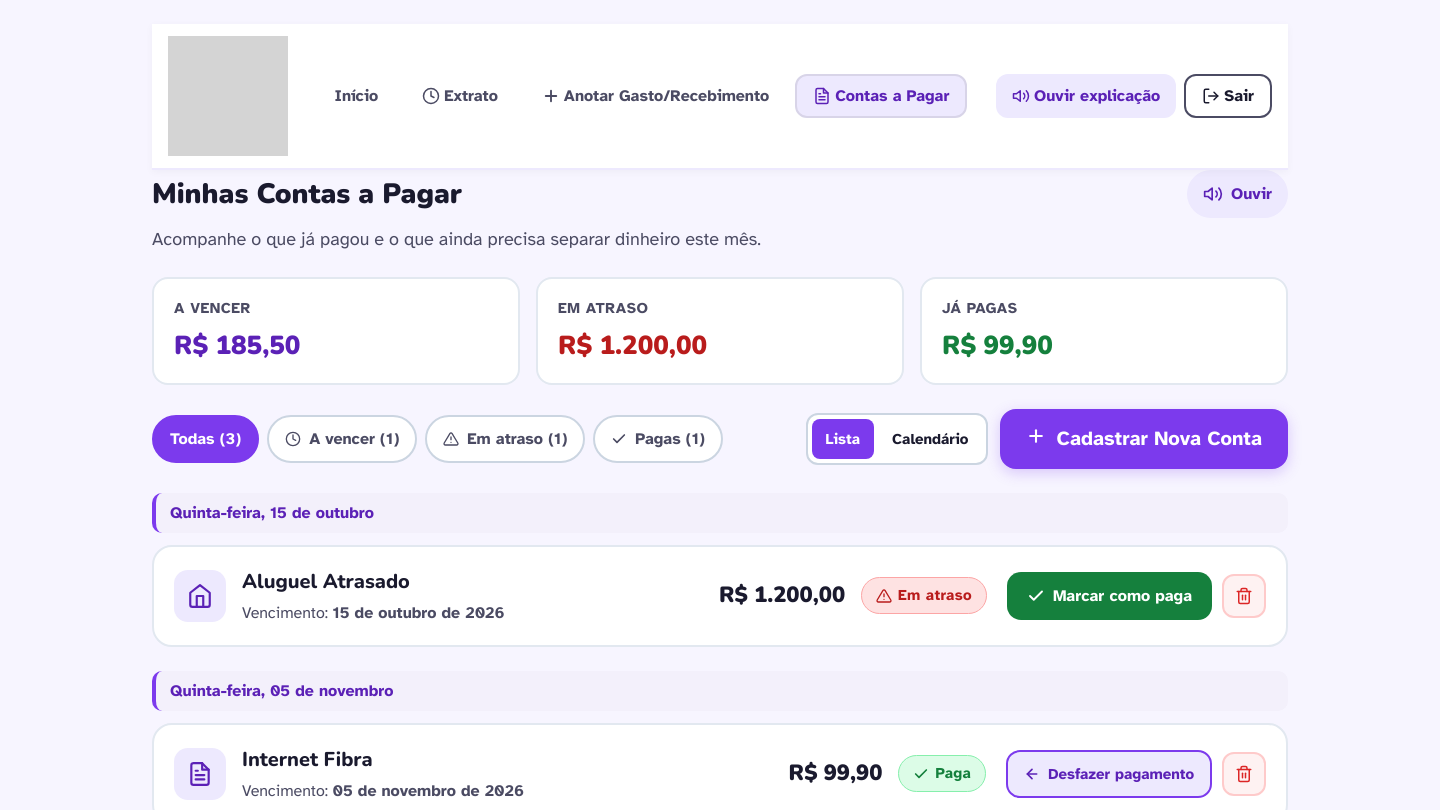
Test: Página de Contas a Pagar (RF25, RF30, RF32) › filtra as contas por situação ao clicar nos botões de filtro
// Clica no filtro "Em atraso"
What coordinates should you click on to do the following:
click the tab "Em atraso (1)"
I would click on:
 (505, 438)
Its box is [425,414,585,462].
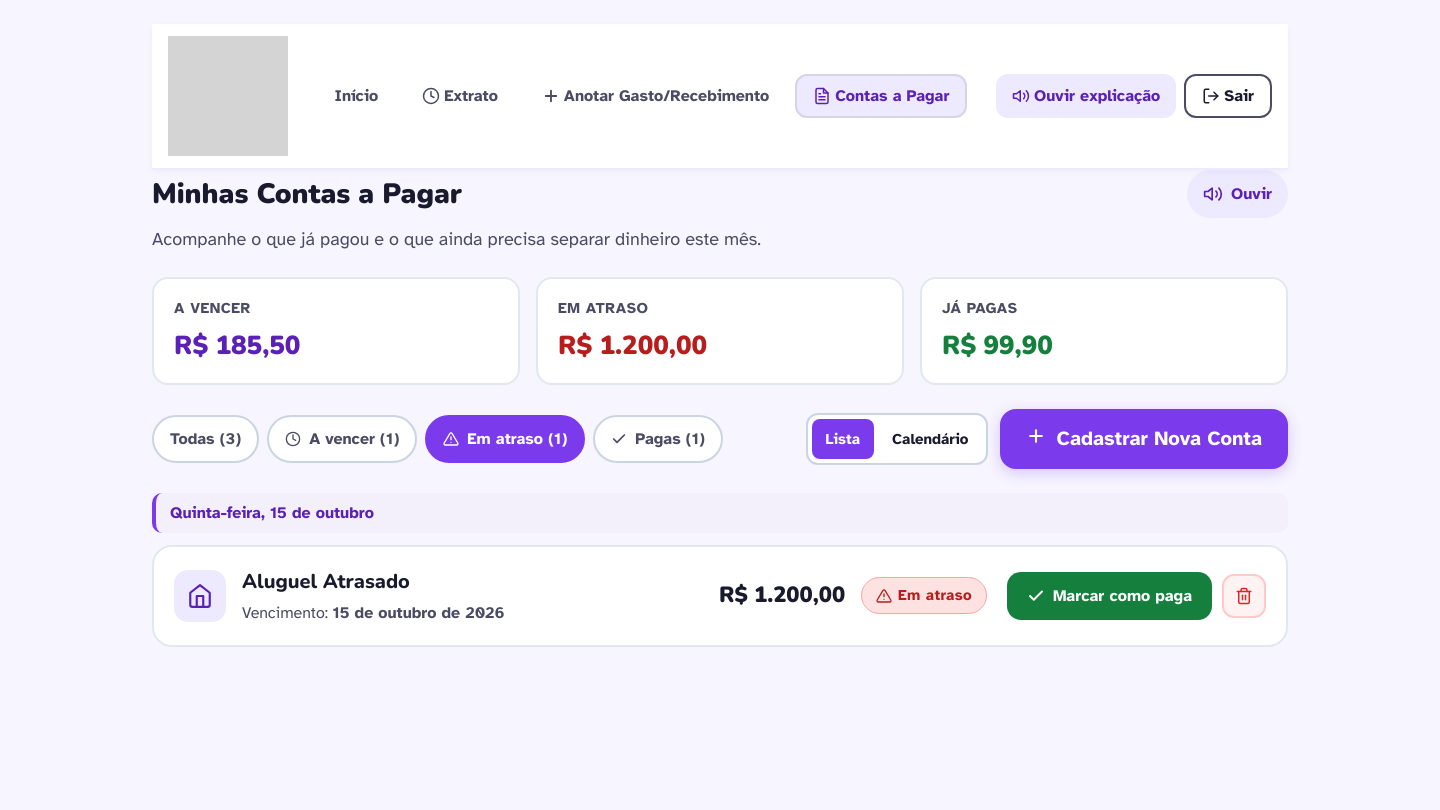
Expected: the text "Aluguel Atrasado" is shown, [242,566,410,596]
Expected: the text "Internet Fibra" is gone
// Clica no filtro "Pagas"
What coordinates should you click on to do the following:
click the tab "Pagas (1)"
I would click on:
 (658, 438)
Its box is [593,414,723,462].
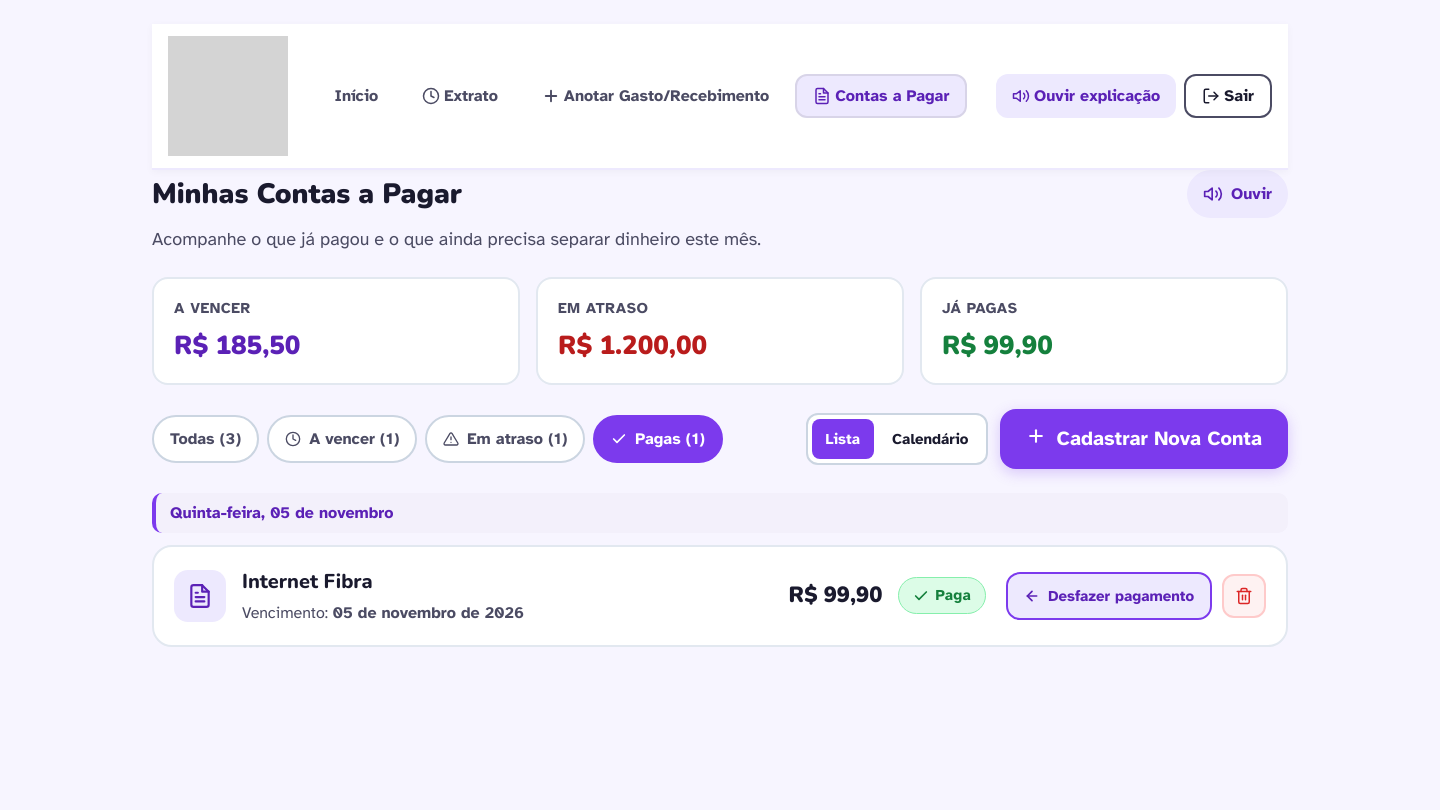
Expected: the text "Internet Fibra" is shown, [242,566,373,596]
Expected: the text "Aluguel Atrasado" is gone
